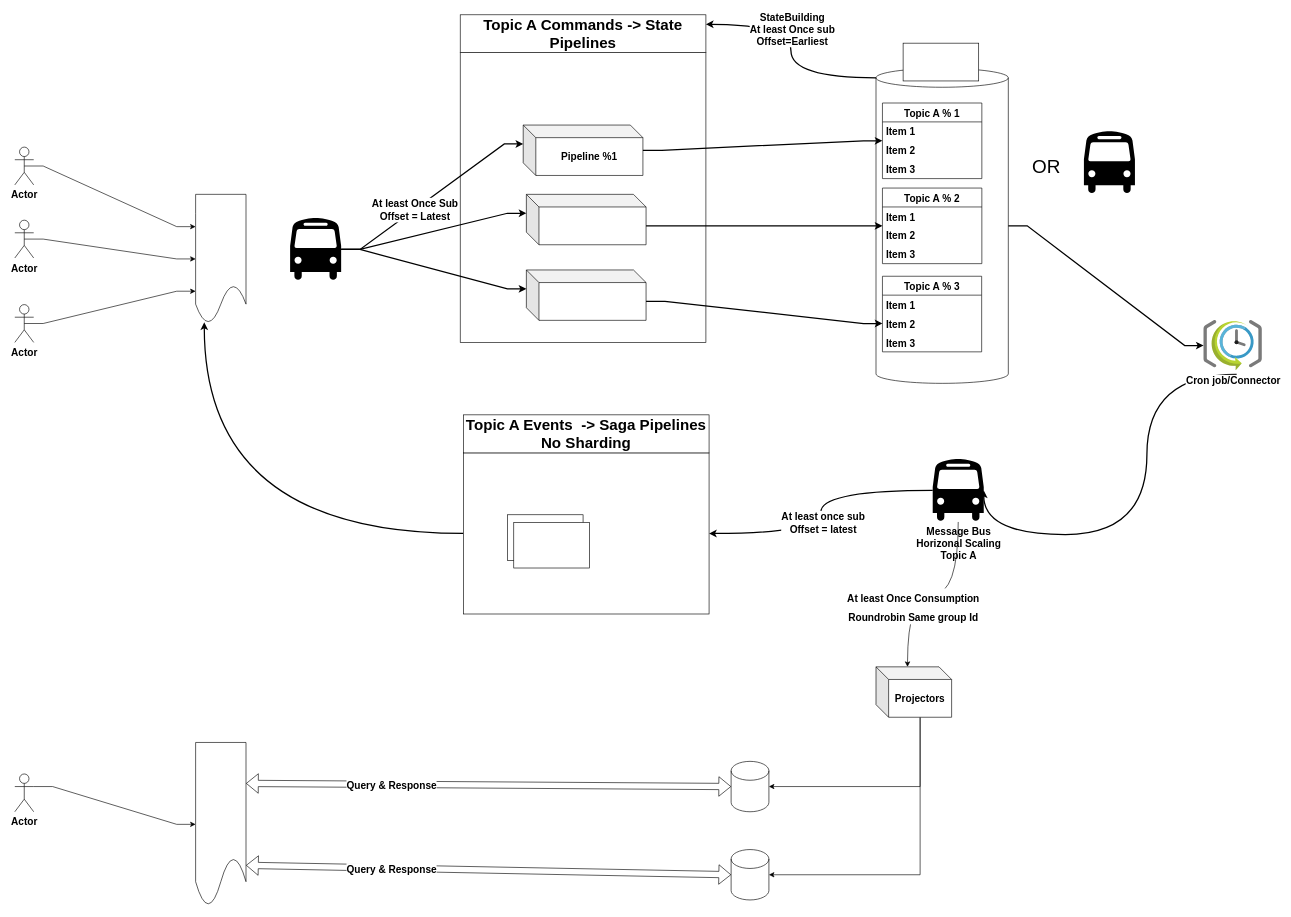
Image size: 1291x917. Some labels were removed from this diagram. Here are the shapes that lost their labels. From the top down, the centre of each, then its label:
point (940, 62): K/V Store
point (586, 219): Pipeline %2
point (220, 259): Command API
point (315, 249): Message Bus Horizonal Sharding based on State(Aggregate) Key
point (586, 294): Pipeline %3
point (220, 824): Query API
